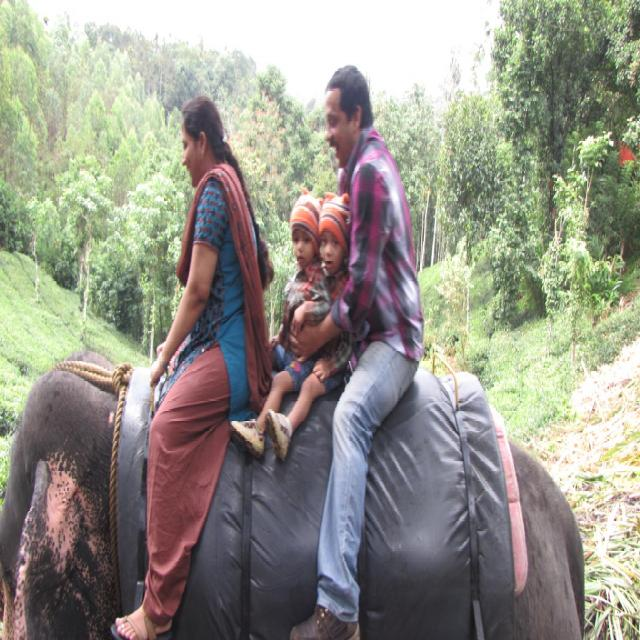elephant: (0, 344, 586, 639)
